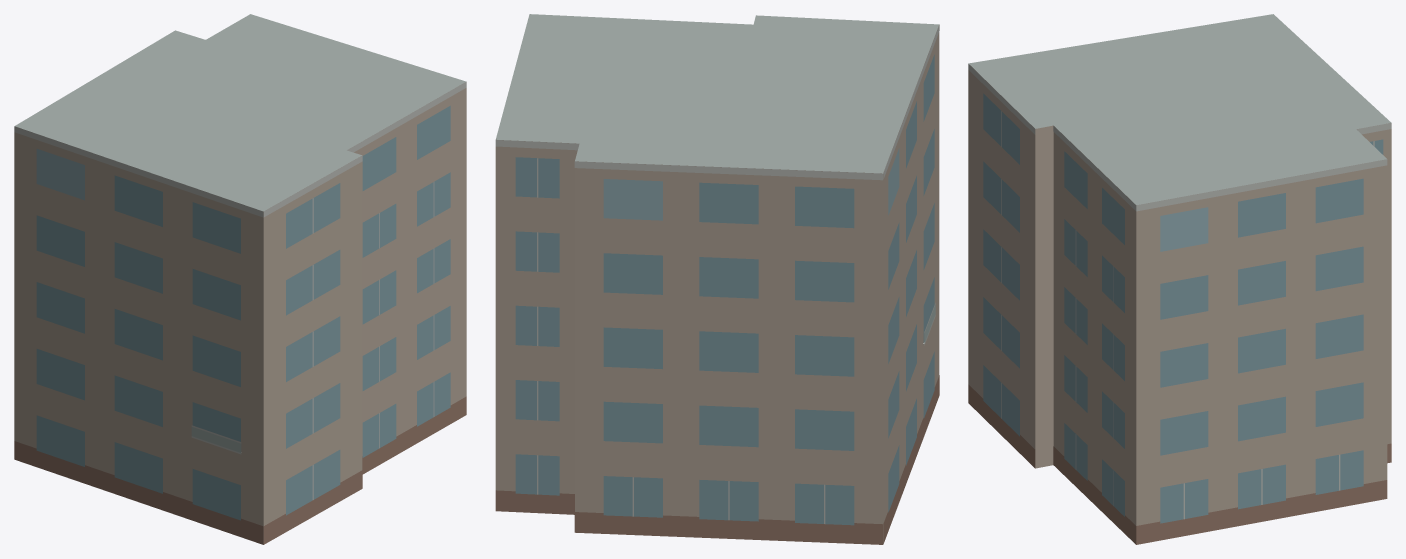
The model's file is survey-upis-32834075.glb.
3 views of the same model, side by side, from view 1: azimuth 30°, elevation 25°; view 2: azimuth 150°, elevation 25°; view 3: azimuth 270°, elevation 25° (orthographic). The views are drawn at different scales.
Parts seen in each view (by area): view 1: survey-upis-32834075.tmp; view 2: survey-upis-32834075.tmp; view 3: survey-upis-32834075.tmp.
Boxes of the visible parts, left/top/right/bottom form: survey-upis-32834075.tmp: left=14, top=14, right=466, bottom=544; survey-upis-32834075.tmp: left=495, top=14, right=939, bottom=544; survey-upis-32834075.tmp: left=968, top=14, right=1391, bottom=544.
Bounding box in the file's own units: 16.2 × 13.4 × 15.14.
